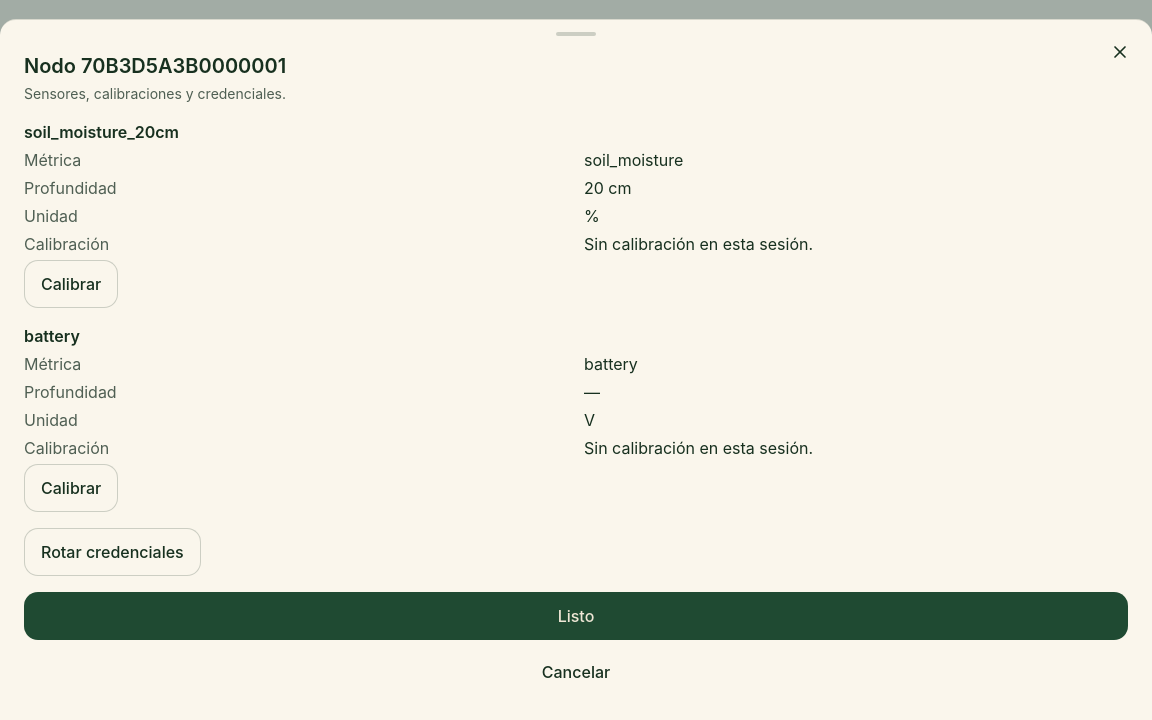
it: NodeDetailSheet › never rotates without the confirmation step
Expected: the text "soil_moisture_20cm" is shown, [24,122,179,142]
Click the button "Rotar credenciales". click: click(112, 552)
box: [24,528,201,576]
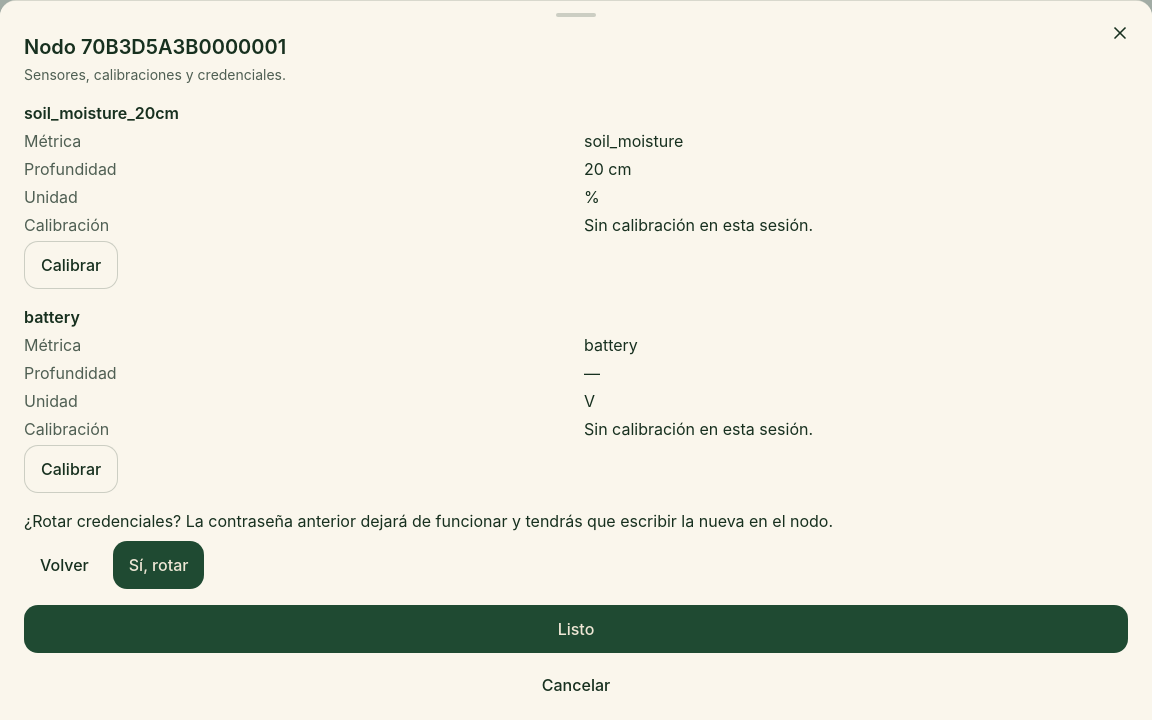
Expected: the text "¿Rotar credenciales?" is shown, [24,511,833,531]
Expected: the button "Volver" is shown
Expected: the button "Sí, rotar" is shown, [113,541,204,589]
Note: Cancel confirmation
Click the button "Volver". click: click(64, 565)
box: [24,541,105,589]
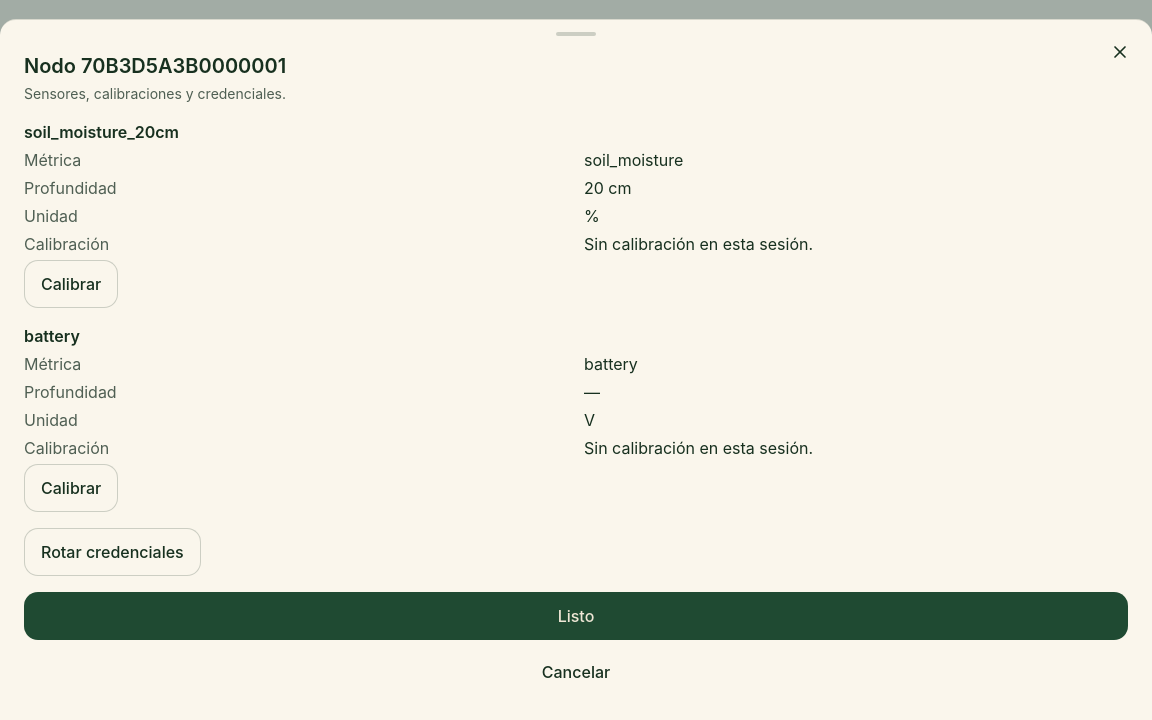
Expected: the button "Rotar credenciales" is shown, [24,528,201,576]
Expected: the text "¿Rotar credenciales?" is gone
